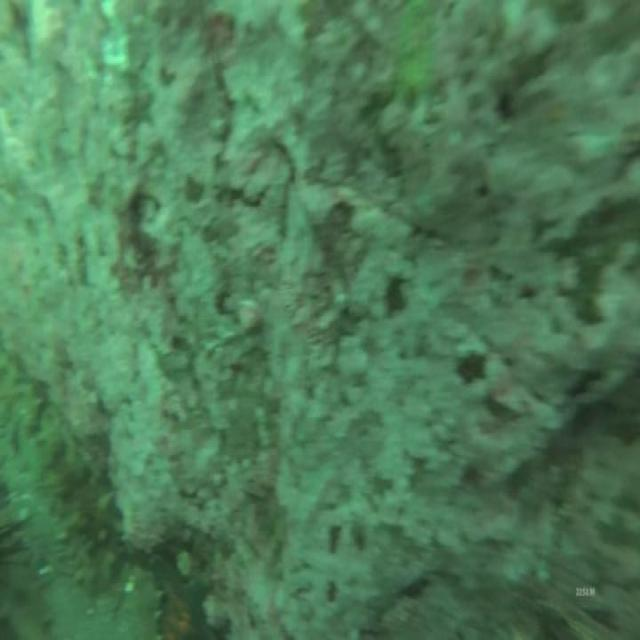starfish: (153, 566, 214, 638)
